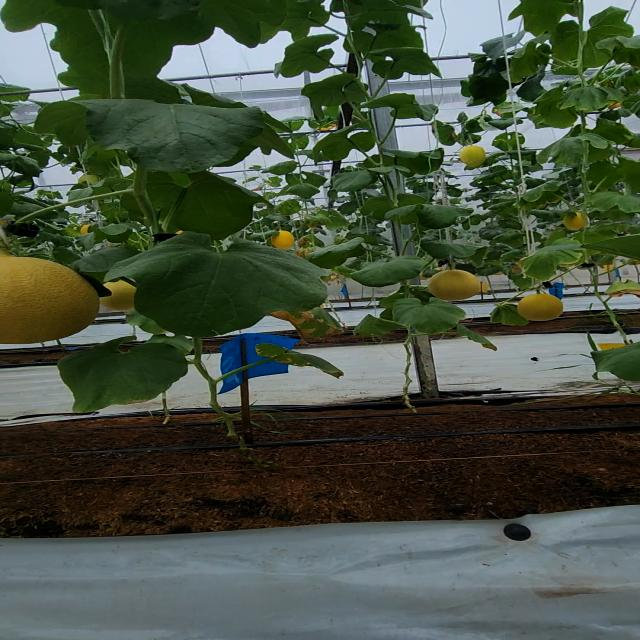Front-melon: (0, 256, 103, 343)
Rear-melon: (516, 292, 563, 322), (434, 272, 482, 299), (102, 279, 138, 309), (274, 231, 298, 249)
